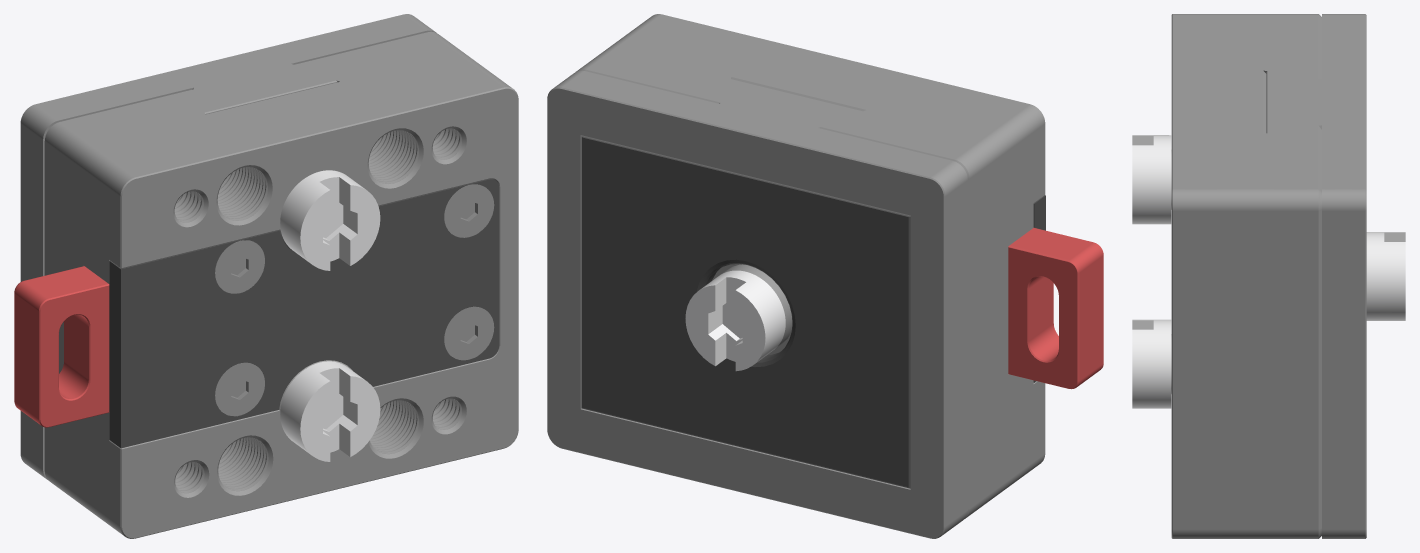
Rendered from V-Lock.fbx.
3 renders of one model, left to right at view 1: azimuth 30°, elevation 25°; view 2: azimuth 150°, elevation 25°; view 3: azimuth 270°, elevation 25°, orthographic. The views are drawn at different scales.
Parts seen in each view (by area): view 1: Housing, Cover, Vlock plate1, Plunger, Big Screw2, Big Screw3, Small Screw, Small Screw (2), Small Screw (1) (1), Small Screw (1); view 2: Vlockplate2, Vlock plate1, Housing, Plunger, Big Screw1; view 3: Housing, Vlock plate1, Big Screw2, Big Screw3, Big Screw1.
Part boxes in pixels (<box>): Housing: <box>44,31,518,538</box>; Cover: <box>109,179,499,448</box>; Vlock plate1: <box>20,14,436,480</box>; Plunger: <box>14,266,109,427</box>; Big Screw2: <box>280,170,380,270</box>; Big Screw3: <box>280,361,380,461</box>; Small Screw: <box>444,184,494,237</box>; Small Screw (2): <box>215,240,264,293</box>; Small Screw (1) (1): <box>215,362,264,416</box>; Small Screw (1): <box>444,306,494,360</box>; Vlockplate2: <box>581,136,910,488</box>; Vlock plate1: <box>547,70,967,538</box>; Housing: <box>576,14,1045,518</box>; Plunger: <box>1008,228,1103,389</box>; Big Screw1: <box>685,270,785,371</box>; Housing: <box>1171,14,1321,538</box>; Vlock plate1: <box>1266,14,1366,538</box>; Big Screw2: <box>1132,135,1171,224</box>; Big Screw3: <box>1132,319,1171,408</box>; Big Screw1: <box>1366,232,1405,320</box>.
Size of the model in its own units: 46.8 by 34.5 by 24.51.
